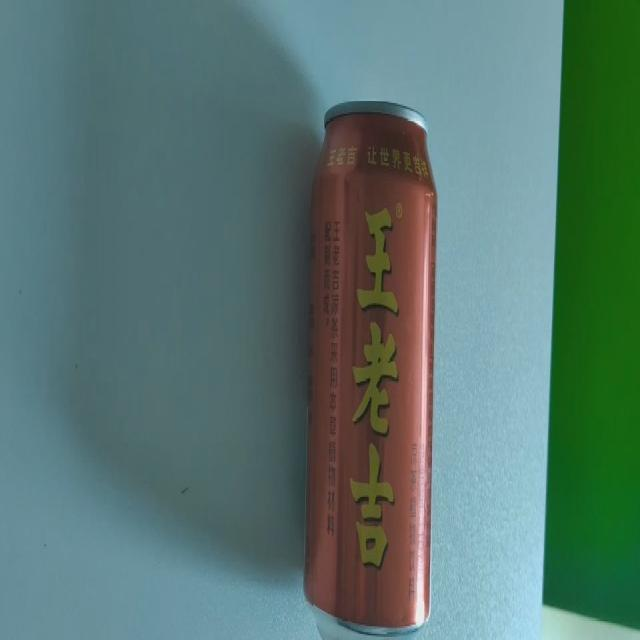can: (307, 104, 432, 627)
